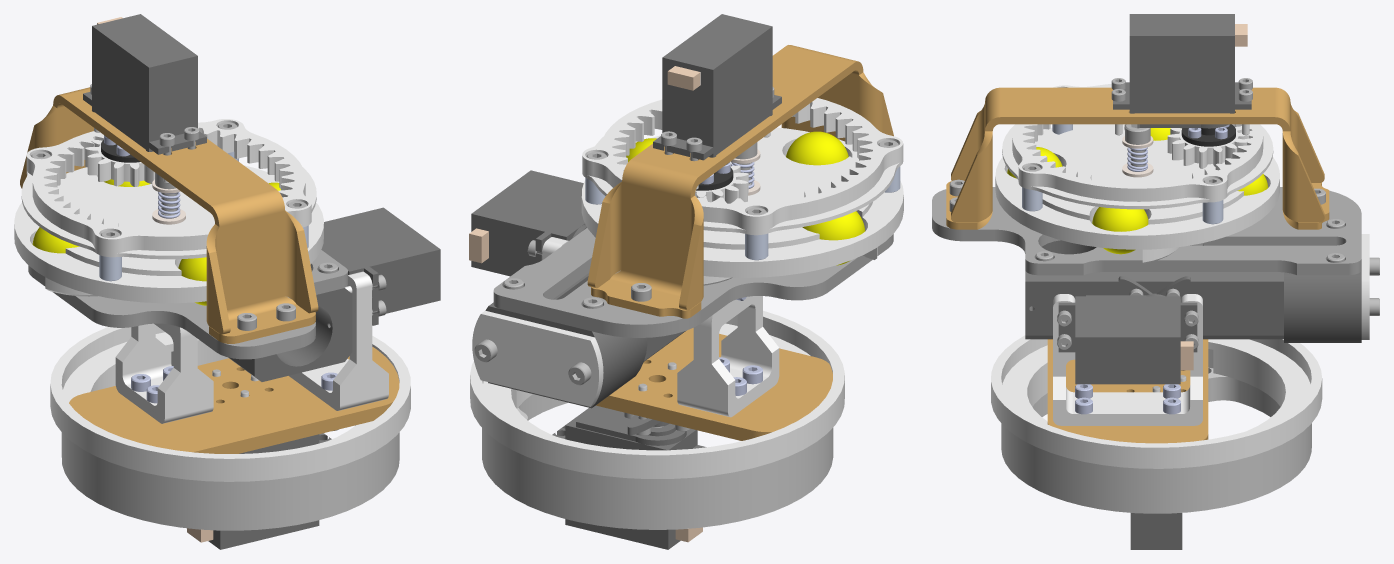
File: SYSTÈME_DE_TIR.glb
3 renders of one model, left to right at view 1: azimuth 30°, elevation 25°; view 2: azimuth 150°, elevation 25°; view 3: azimuth 270°, elevation 25°, orthographic. The views are drawn at different scales.
Parts seen in each view (by area): view 1: tôle SM-1, glissement_canon V3-2, centrage court-1, Plateau rotation Z-1, servo moteur DEUXIEME-1 (×2), barillet-1, Engrenage 42 dens-1, servo moteur DEUXIEME-2, plaque canon-1, support rotation Y canon-1, support servo MY canon-1, BATI-1 (+4 smaller); view 2: tôle SM-1, glissement_canon V3-2, servo moteur DEUXIEME-1 (×2), centrage court-1, Engrenage 42 dens-1, barillet-1, plaque canon-1, Plateau rotation Z-1, servo moteur DEUXIEME-2, tôle ressort-1, support rotation Y canon-1, BATI-1 (+4 smaller); view 3: centrage court-1, tôle SM-1, BATI-1, glissement_canon V3-2, barillet-1, plaque canon-1, servo moteur DEUXIEME-1 (×2), servo moteur DEUXIEME-2, Engrenage 42 dens-1, support servo MY canon-1, Plateau rotation Z-1, engrenage 14 dents-1 (+5 smaller).
Part boxes in pixels (x1=…): tôle SM-1: x1=20, y1=87, x2=318, y2=343; glissement_canon V3-2: x1=61, y1=425, x2=399, y2=530; centrage court-1: x1=50, y1=325, x2=410, y2=481; Plateau rotation Z-1: x1=69, y1=347, x2=399, y2=453; servo moteur DEUXIEME-1 (×2): x1=83, y1=14, x2=331, y2=549; barillet-1: x1=14, y1=165, x2=323, y2=303; Engrenage 42 dens-1: x1=21, y1=119, x2=316, y2=259; servo moteur DEUXIEME-2: x1=321, y1=207, x2=440, y2=325; plaque canon-1: x1=28, y1=250, x2=347, y2=359; support rotation Y canon-1: x1=115, y1=323, x2=213, y2=423; support servo MY canon-1: x1=289, y1=271, x2=388, y2=410; BATI-1: x1=228, y1=288, x2=352, y2=381; tôle SM-1: x1=587, y1=45, x2=893, y2=318; glissement_canon V3-2: x1=482, y1=394, x2=833, y2=529; servo moteur DEUXIEME-1 (×2): x1=552, y1=14, x2=781, y2=549; centrage court-1: x1=470, y1=310, x2=844, y2=478; Engrenage 42 dens-1: x1=582, y1=98, x2=903, y2=235; barillet-1: x1=581, y1=127, x2=903, y2=285; plaque canon-1: x1=493, y1=228, x2=893, y2=337; Plateau rotation Z-1: x1=596, y1=328, x2=832, y2=440; servo moteur DEUXIEME-2: x1=469, y1=170, x2=586, y2=276; tôle ressort-1: x1=472, y1=310, x2=603, y2=406; support rotation Y canon-1: x1=677, y1=296, x2=779, y2=417; BATI-1: x1=485, y1=273, x2=685, y2=408; centrage court-1: x1=991, y1=335, x2=1322, y2=468; tôle SM-1: x1=946, y1=87, x2=1329, y2=229; BATI-1: x1=1025, y1=240, x2=1361, y2=342; glissement_canon V3-2: x1=1001, y1=349, x2=1311, y2=513; barillet-1: x1=995, y1=124, x2=1279, y2=263; plaque canon-1: x1=932, y1=187, x2=1361, y2=275; servo moteur DEUXIEME-1 (×2): x1=1113, y1=14, x2=1251, y2=549; servo moteur DEUXIEME-2: x1=1058, y1=294, x2=1197, y2=384; Engrenage 42 dens-1: x1=1002, y1=84, x2=1273, y2=209; support servo MY canon-1: x1=1053, y1=294, x2=1202, y2=425; Plateau rotation Z-1: x1=1047, y1=339, x2=1208, y2=443; engrenage 14 dents-1: x1=1167, y1=124, x2=1250, y2=168.
Bounding box in the file's own units: 0.1524 × 0.1958 × 0.173.
